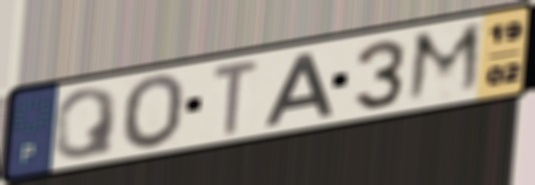3: (353, 37, 409, 112)
A: (261, 50, 337, 129)
M: (402, 18, 487, 107)
O: (121, 71, 188, 154)
Q: (52, 84, 122, 162)
T: (210, 57, 263, 138)
